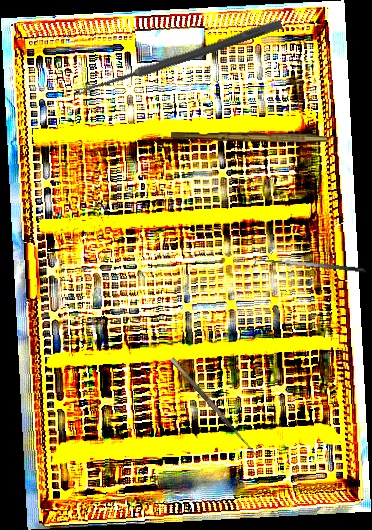Hook Surgical: (170, 353, 263, 458)
Scalpel Handle: (171, 131, 327, 142)
Spatula Surgical: (253, 254, 367, 282)
Surgical Spoon: (73, 17, 283, 100)
